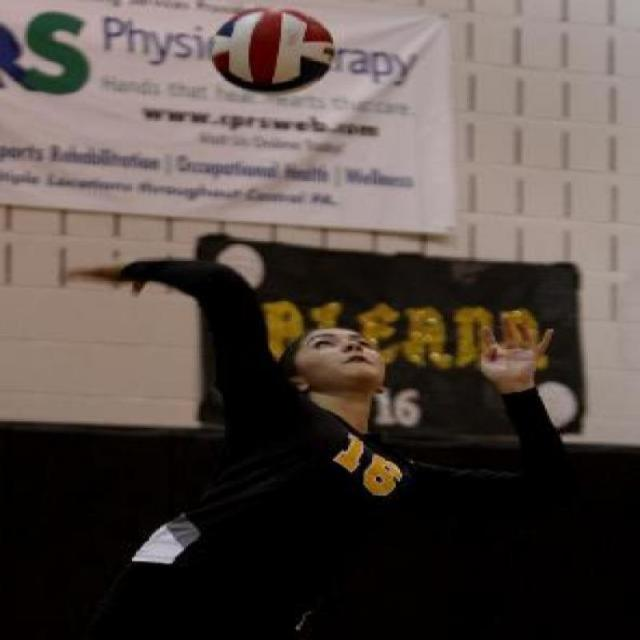volleyball: (210, 5, 338, 96)
